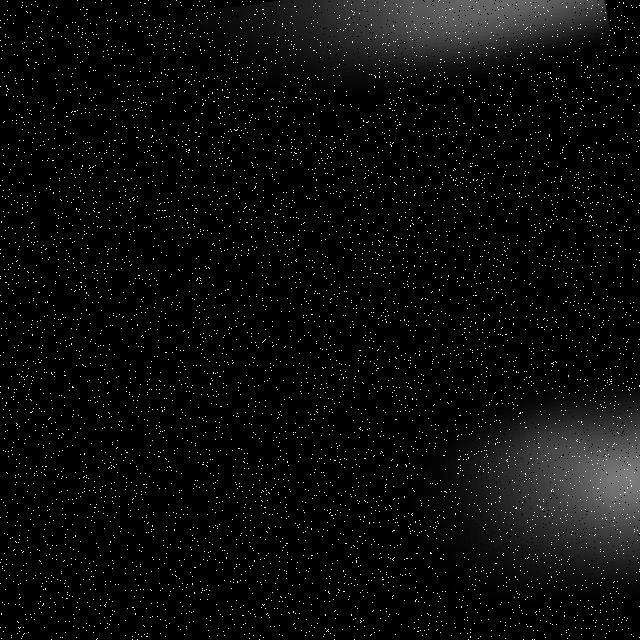person: (1, 1, 627, 195), (357, 308, 640, 632)
